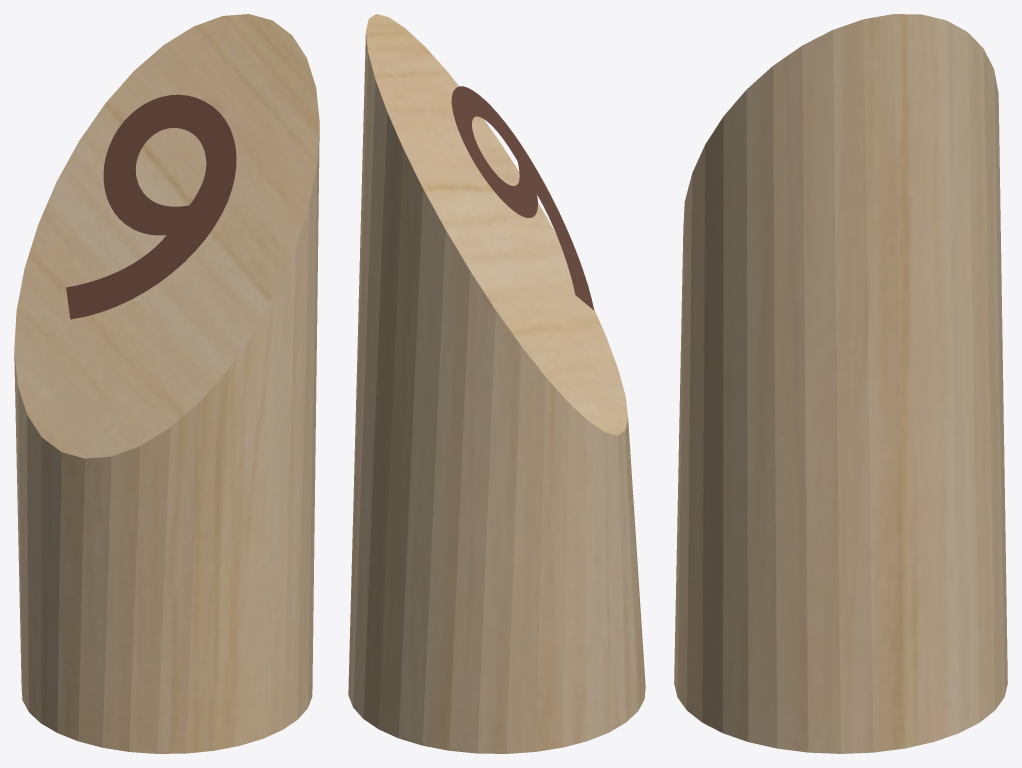
File: pin9.glb
3 renders of one model, left to right at view 1: azimuth 30°, elevation 25°; view 2: azimuth 150°, elevation 25°; view 3: azimuth 270°, elevation 25°, orthographic. The views are drawn at different scales.
Visible parts, largest first — view 1: 円柱.010; view 2: 円柱.010; view 3: 円柱.010.
Part boxes in pixels (left/top/right/bottom): 円柱.010: left=14, top=14, right=319, bottom=753; 円柱.010: left=348, top=14, right=645, bottom=753; 円柱.010: left=674, top=14, right=1007, bottom=753.
Bounding box in the file's own units: 1.16 × 2.79 × 1.16.
Materials: 2 (1 with a texture image).
